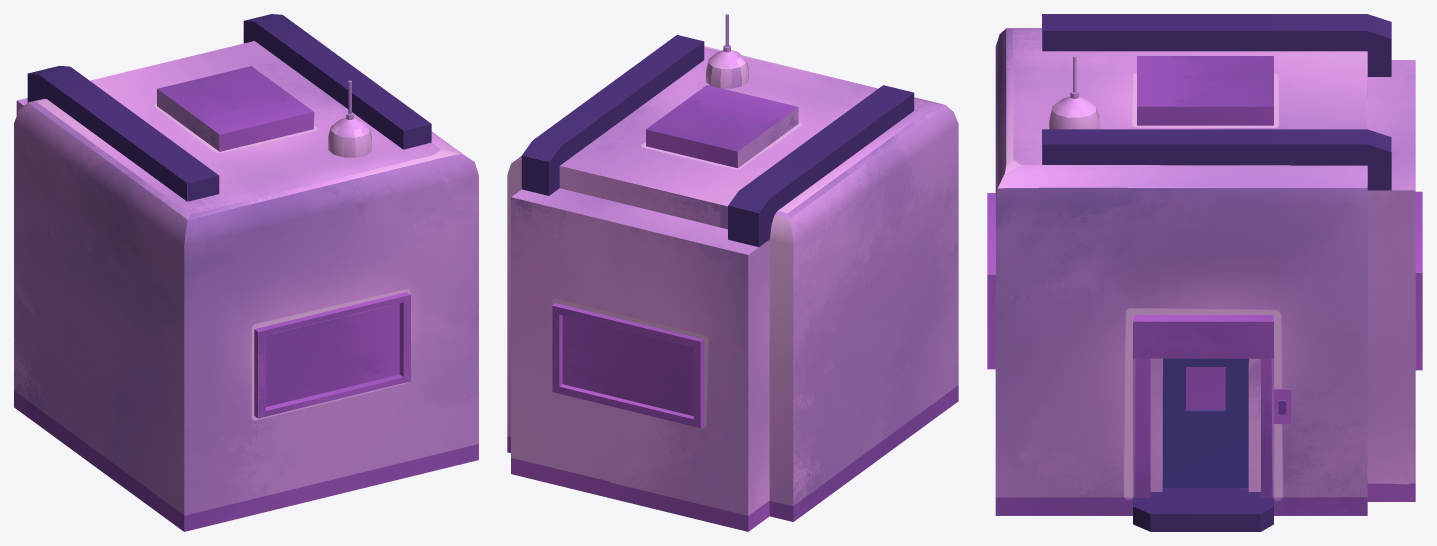
Rendered from SUP_ARCH_House02.fbx.
The picture shows the model from 3 angles, left to right: view 1: azimuth 30°, elevation 25°; view 2: azimuth 150°, elevation 25°; view 3: azimuth 270°, elevation 25°; orthographic projection. The views are drawn at different scales.
Parts seen in each view (by area): view 1: m_superposed_HouseV2_low; view 2: m_superposed_HouseV2_low; view 3: m_superposed_HouseV2_low.
Boxes of the visible parts, bbox=[...] form: m_superposed_HouseV2_low: bbox=[14, 14, 478, 531]; m_superposed_HouseV2_low: bbox=[507, 14, 958, 531]; m_superposed_HouseV2_low: bbox=[987, 14, 1422, 531].
Size of the model in its own units: 634 by 699 by 673.
Materials: 1 (1 with a texture image).
